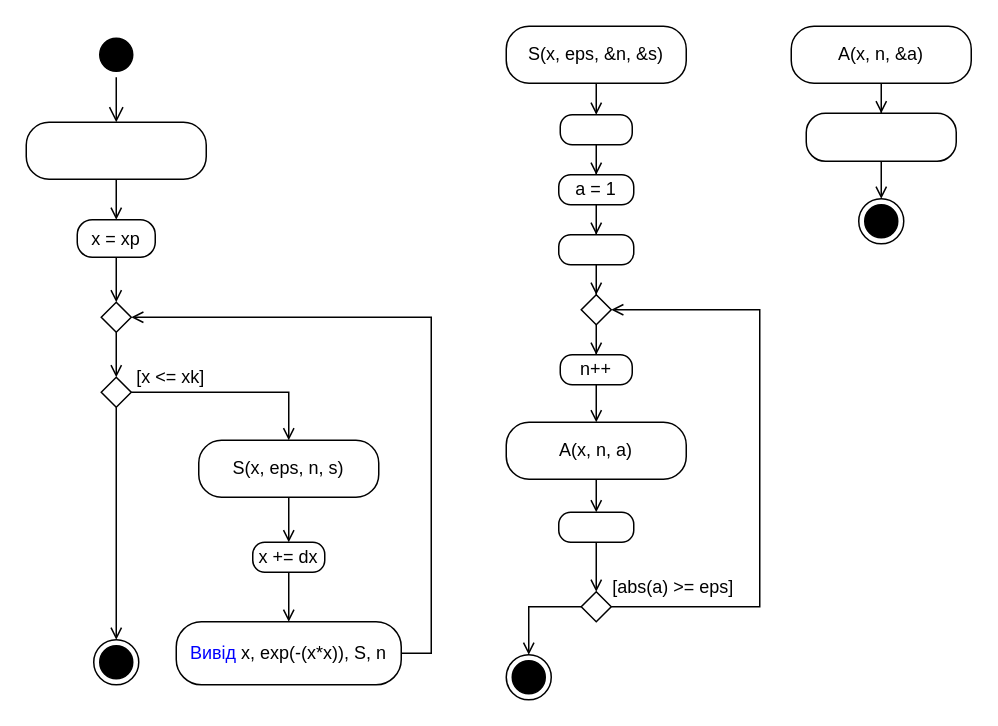
The diagram is 998 pixels wide and 726 high, and some of its shapes have lost their labels. The centre of each missing label's shape, as x and y in pixels:
a *= -(x*x)/n;: (880,136)
n = 0: (595,129)
S += a: (595,526)
S = a: (595,249)
Ввід xp, xk, dx, eps: (115,150)
